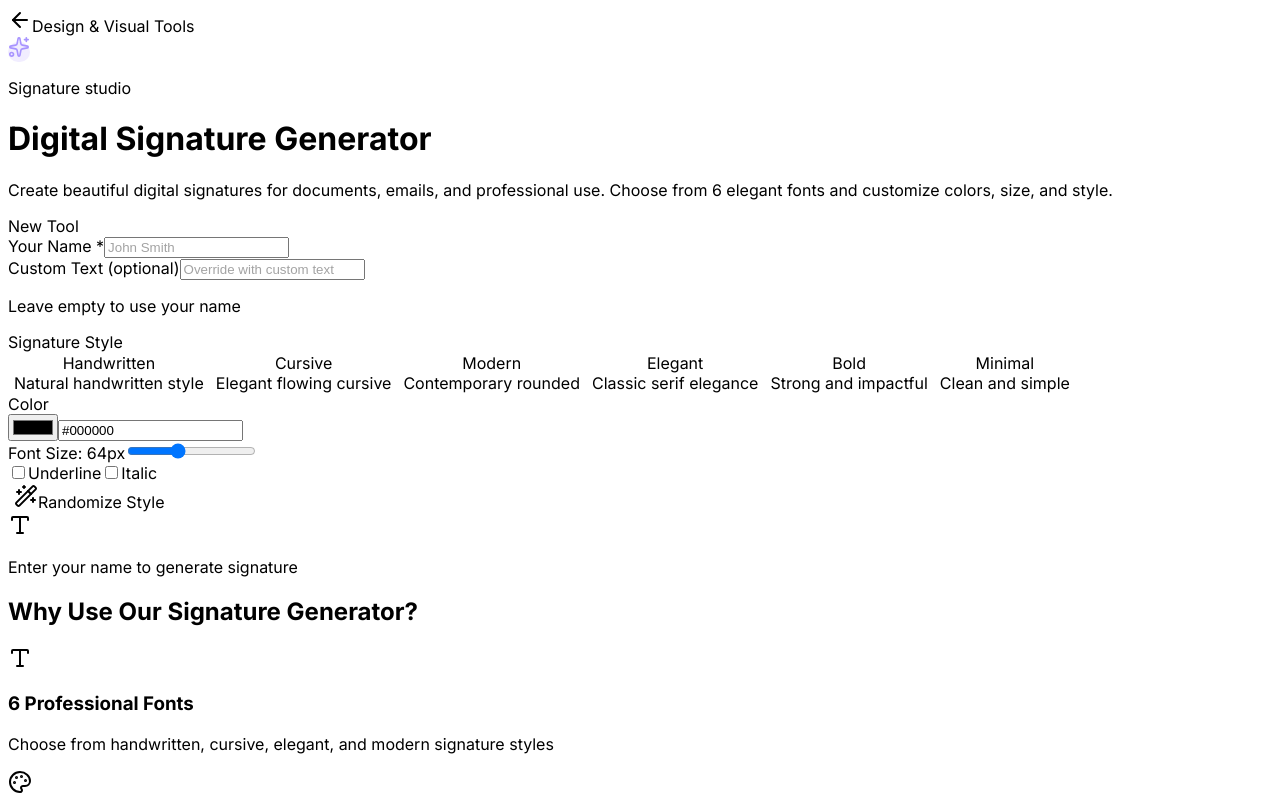
Test: SignatureGeneratorPage › Input Interactions › hides placeholder text when name is entered
This screenshot has width=1280, height=800.
Expected: the text "Enter your name to generate signature" is shown, left=8, top=557, right=298, bottom=577
Type "Test" into the field with placeholder "John Smith" at (197, 247), box left=104, top=237, right=289, bottom=258
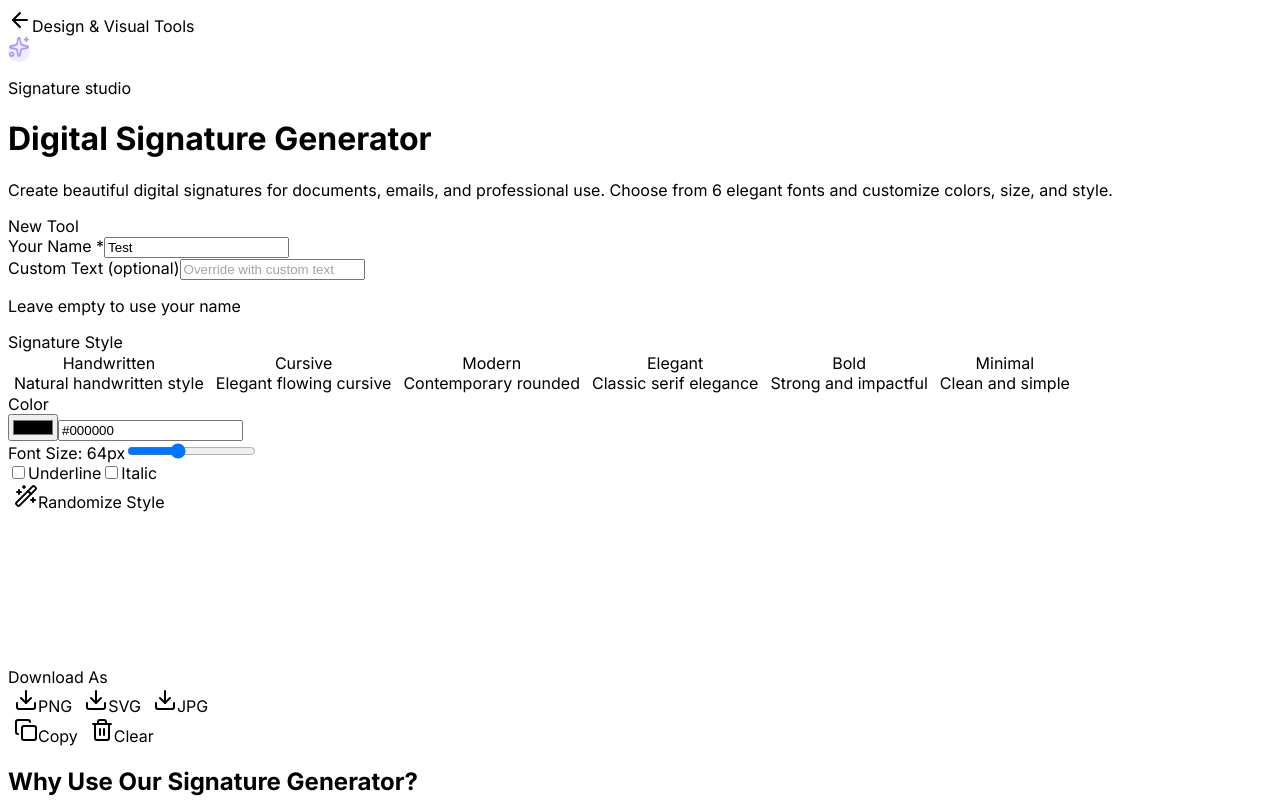
Expected: the text "Enter your name to generate signature" is gone
